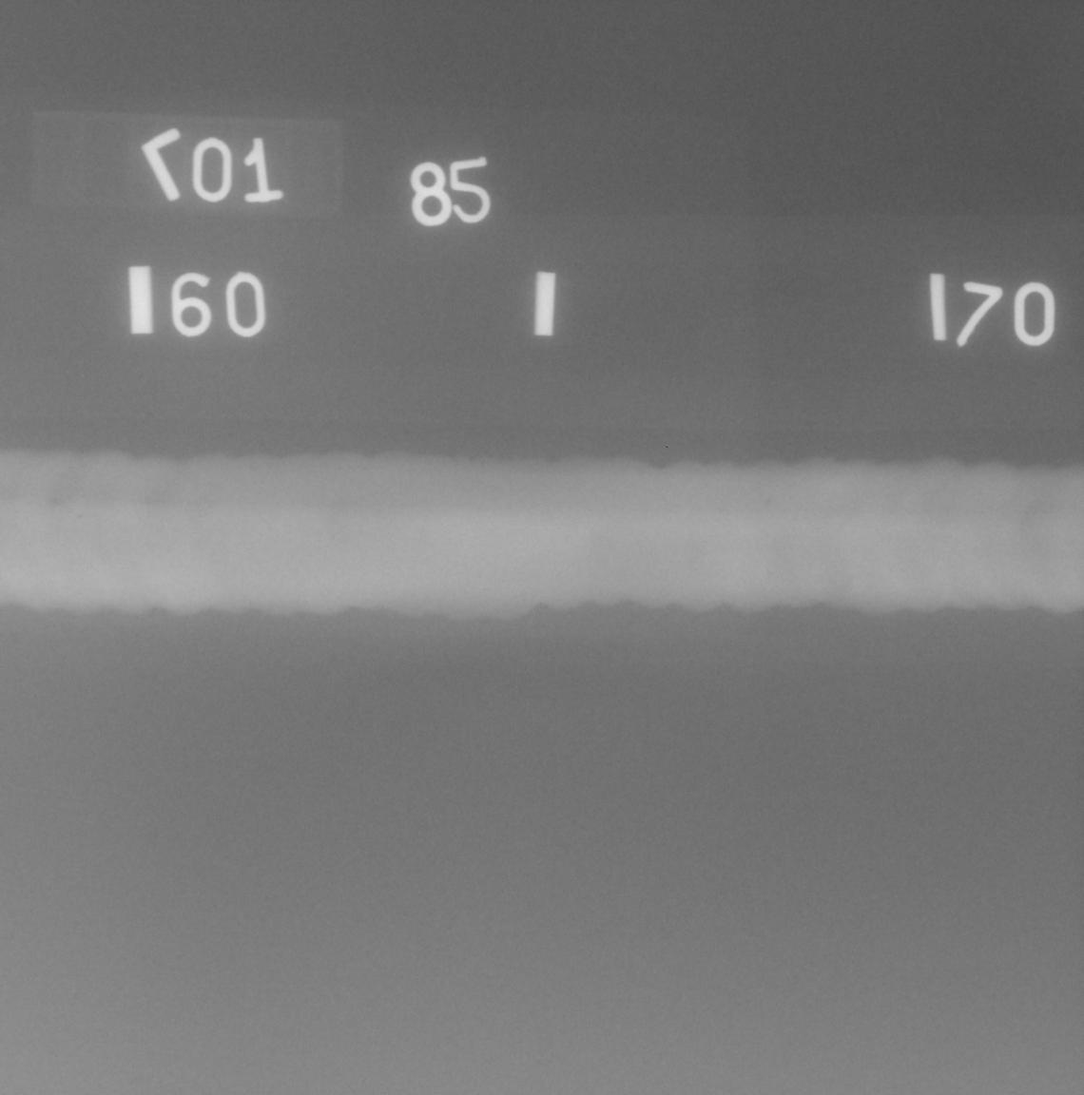Inclusion: (764, 491, 772, 507), (766, 570, 775, 583)
Pore/Porosity: (51, 498, 61, 505), (76, 514, 82, 519)
